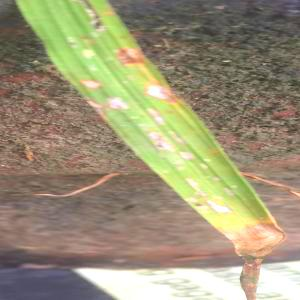1 RiceBlast: (110, 37, 146, 73), (145, 77, 188, 105), (101, 90, 142, 119), (72, 69, 101, 96)
